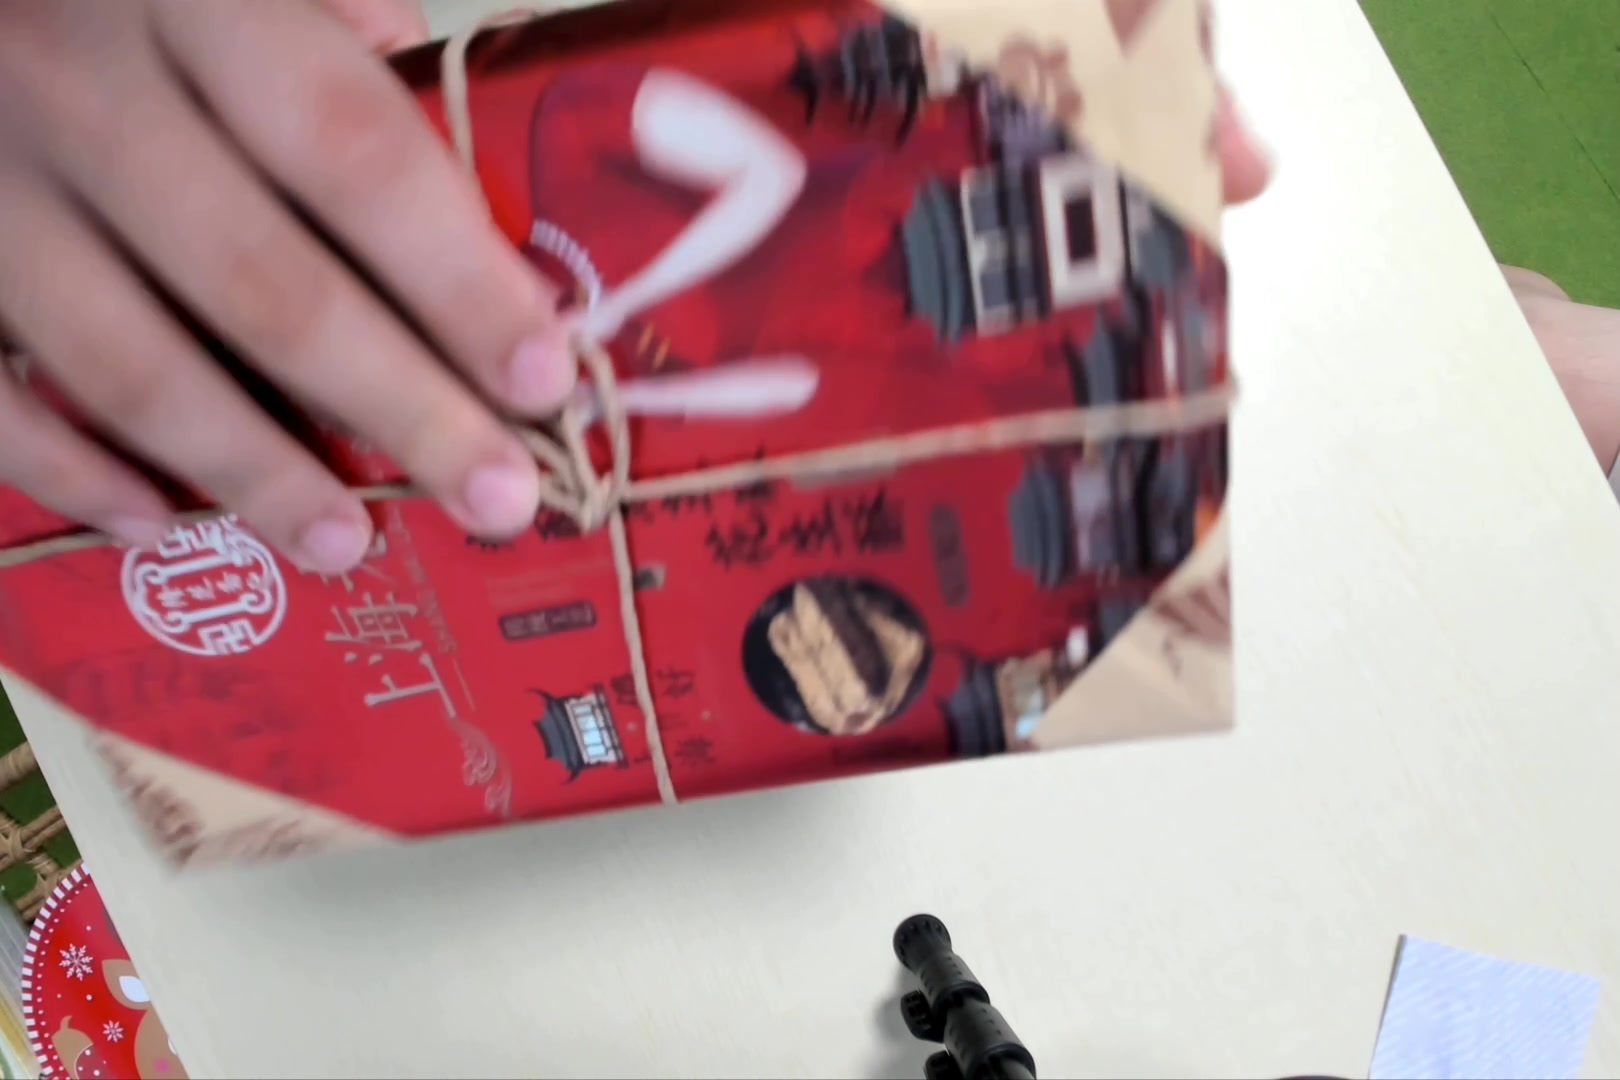BiscuitsCrackersCookies_400-499g_NonHalal_NonHealthy: (25, 17, 1251, 881)
